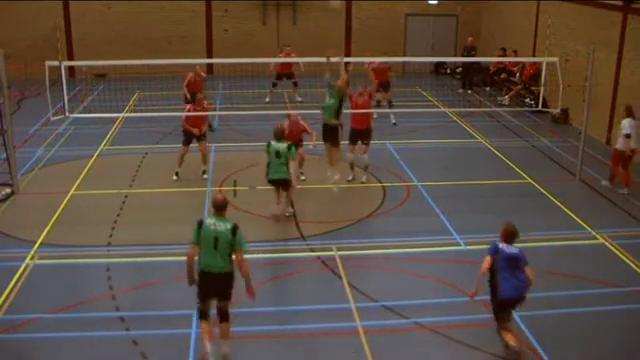alzata: (314, 45, 349, 192)
